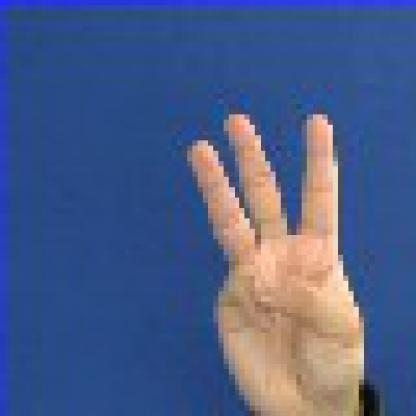three: (146, 78, 390, 411)
